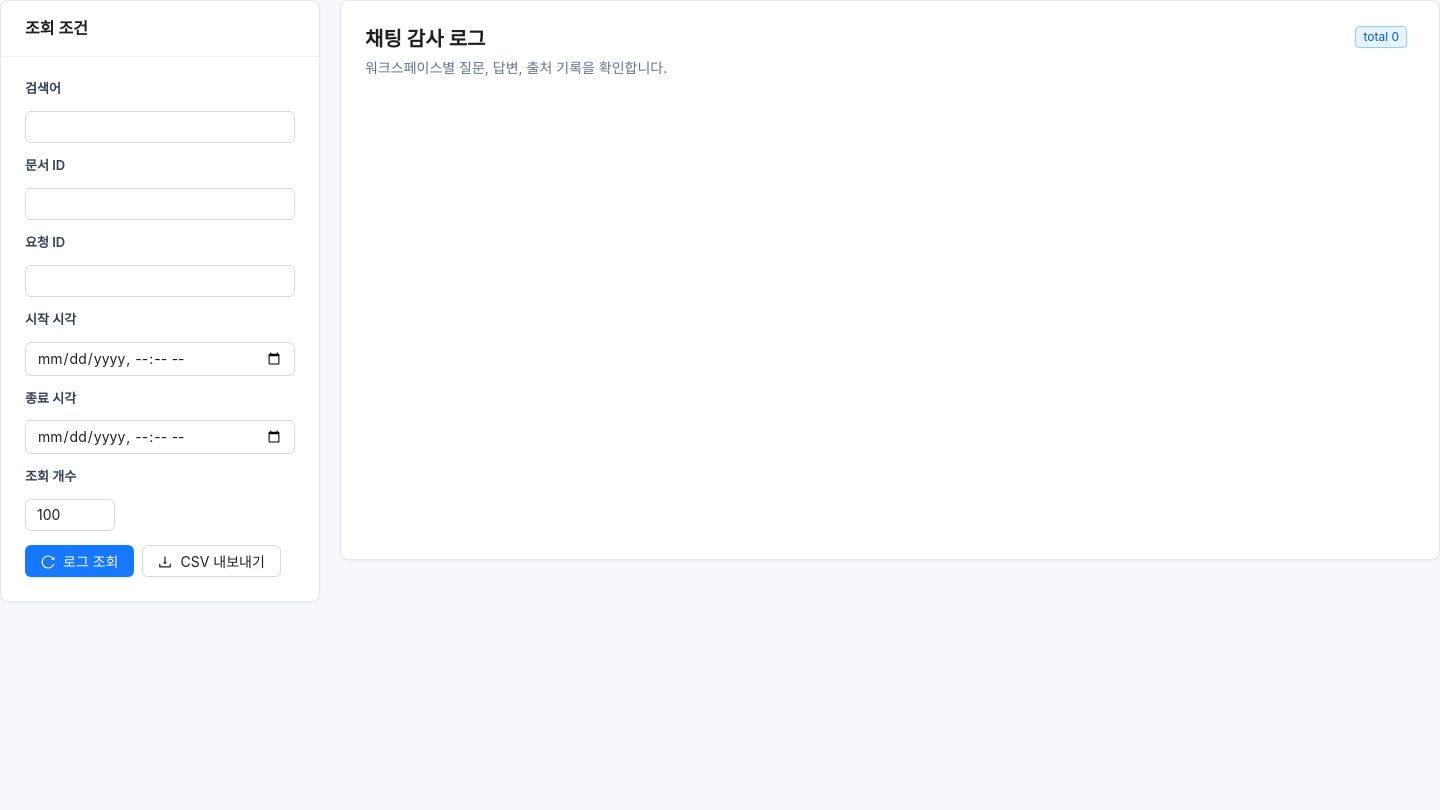
Test case: AuditLogWorkspace › 조회 실패 메시지를 보여준다
Click the button "로그 조회" at (80, 561), box top-left (25, 545), bottom-right (134, 577)
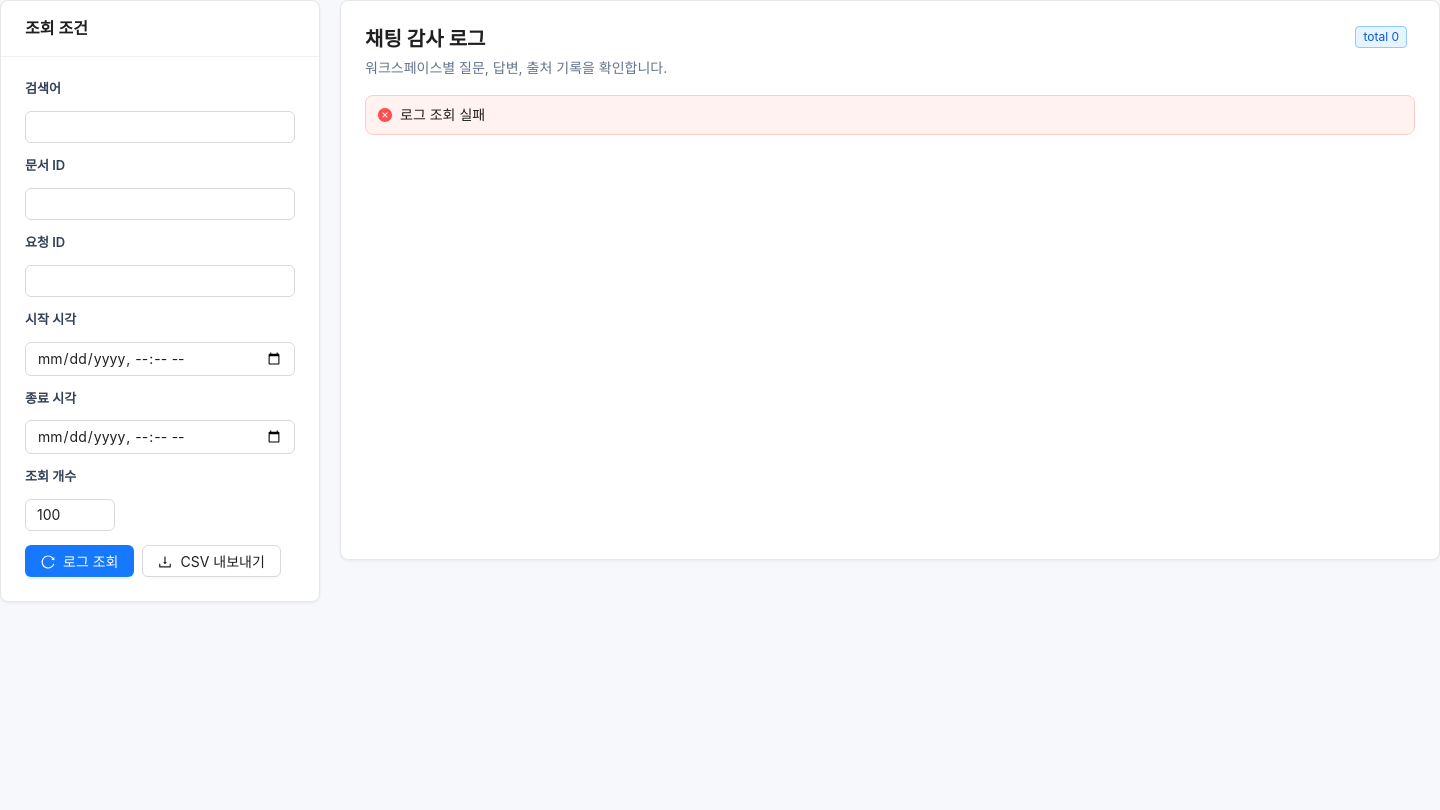
Expected: the text "로그 조회 실패" is shown, top-left (400, 106), bottom-right (485, 123)
